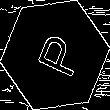P_NW: (27, 28, 83, 82)
